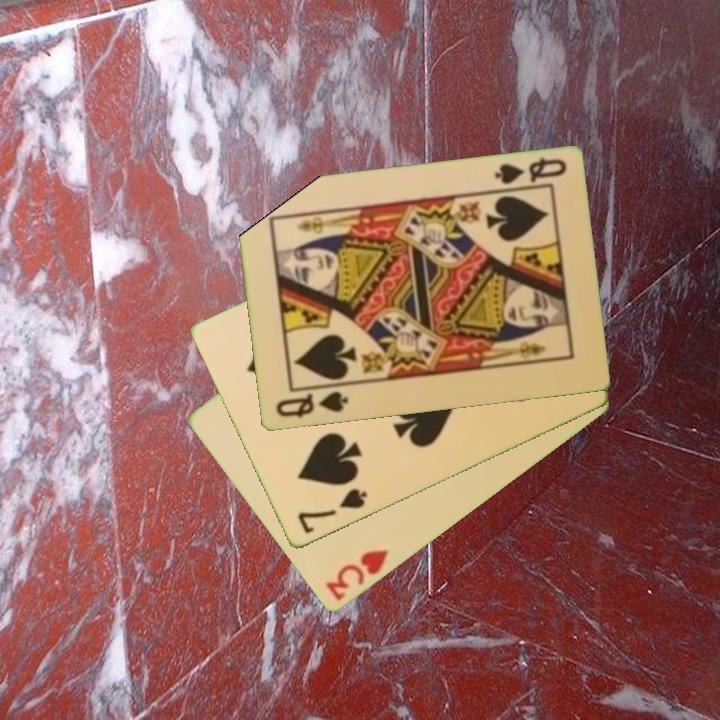3h: (322, 546, 392, 604)
7s: (294, 485, 370, 537)
Qs: (490, 155, 569, 193), (272, 388, 351, 421)
